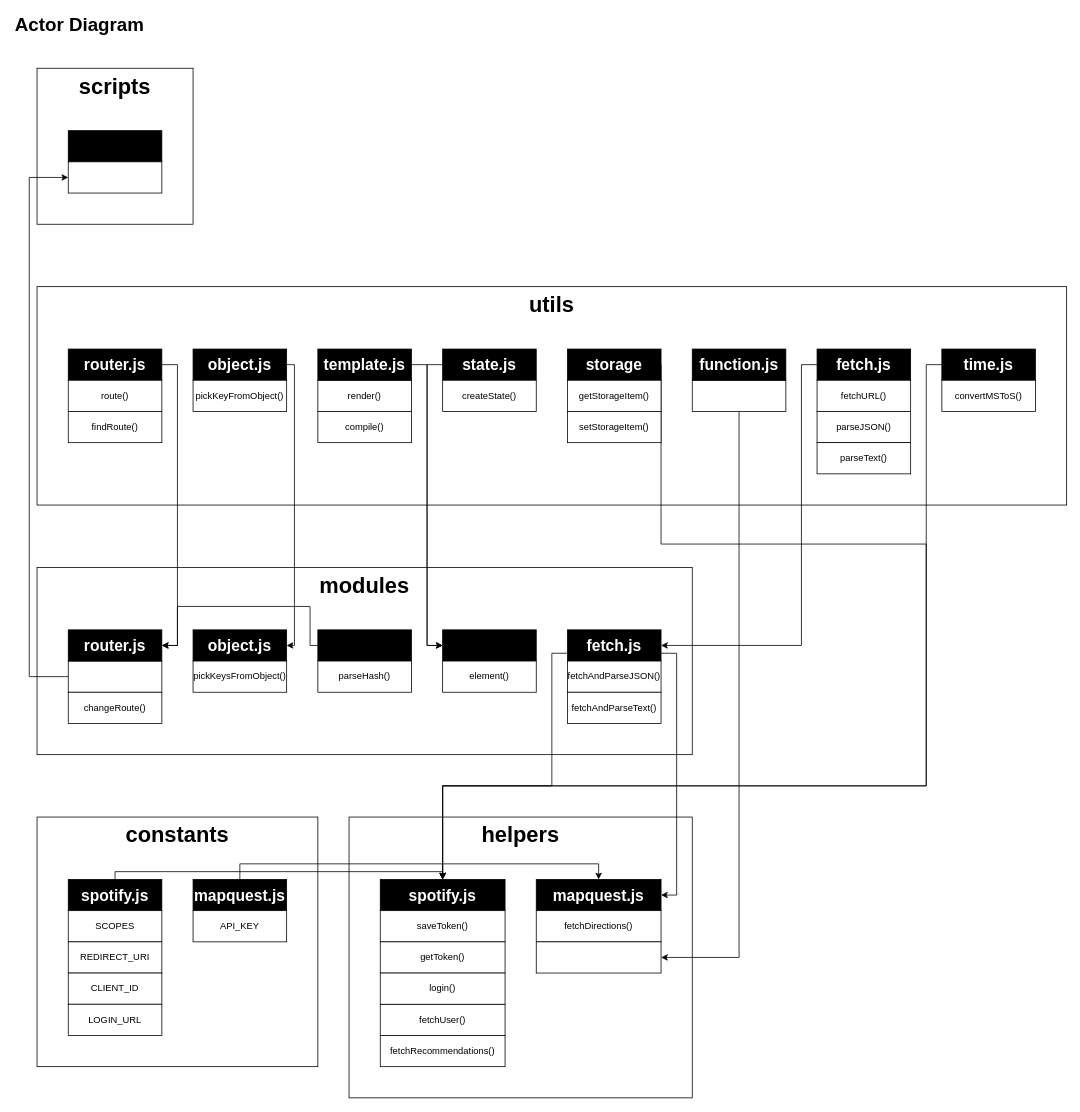
This 1080x1112 diagram has some shape labels left out. The centre of each missing label's shape, as x and y in pixels:
"autoCompleteSearch()" belongs at (x=598, y=957).
"debounce()" belongs at (x=738, y=395).
"element.js" belongs at (x=489, y=645).
"hash.js" belongs at (x=364, y=645).
"main()" belongs at (x=114, y=177).
"main.js" belongs at (x=114, y=146).
"router()" belongs at (x=114, y=676).
